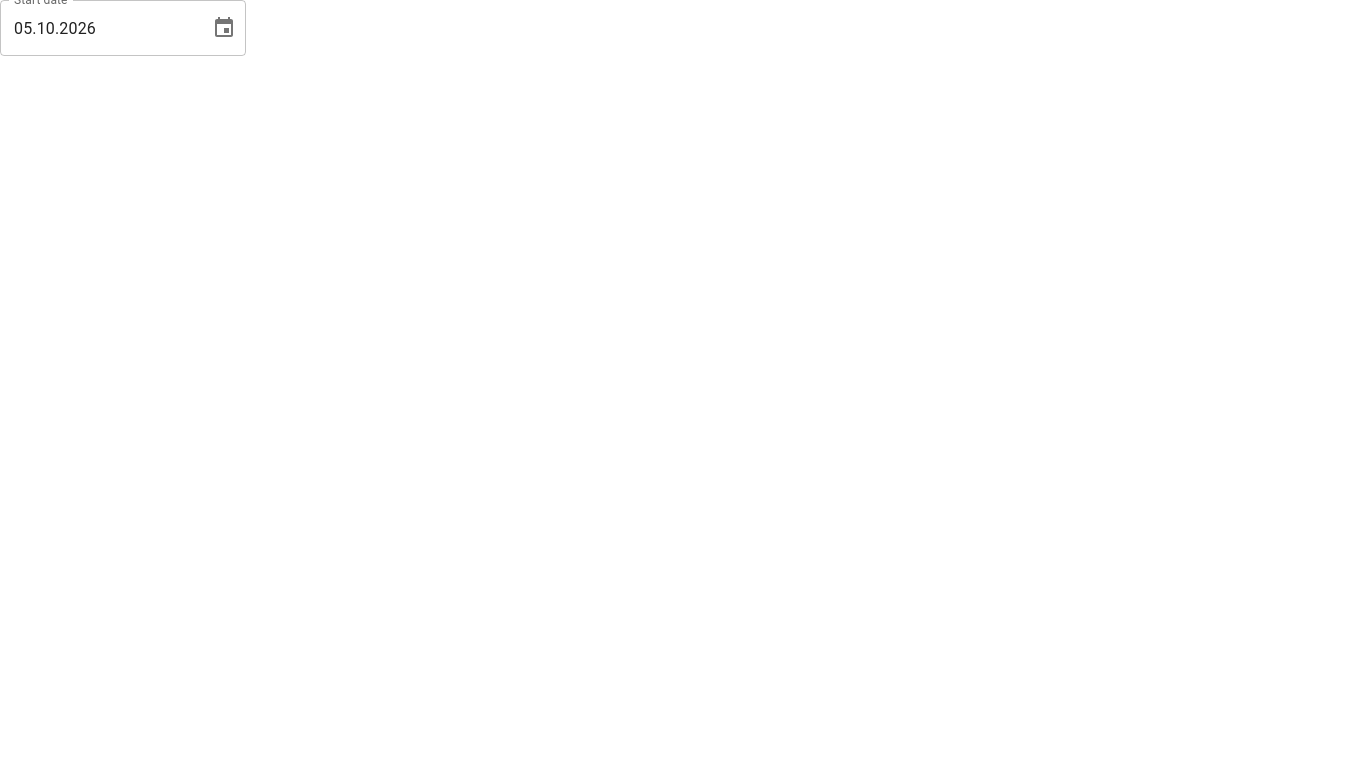
Test: <DatePickerField> › localisation › follows an app-level LocalizationProvider's locale and texts when given none
What coordinates should you click on to do the following:
click the button named "choose date"
I would click on:
 (224, 28)
Its box is x1=204 y1=8 x2=244 y2=48.
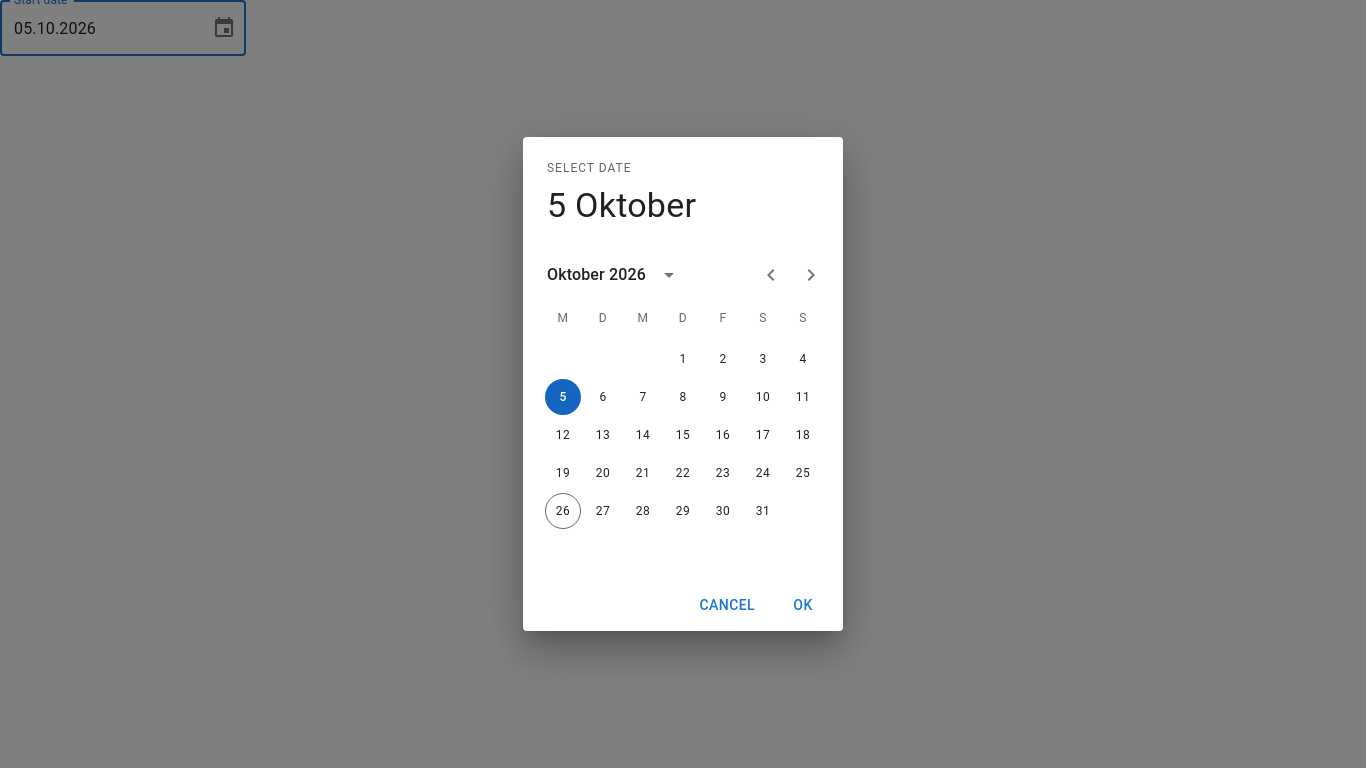
Check: the button named "Vorheriger Monat" is shown, box x1=751 y1=255 x2=791 y2=295
Check: the button named "Nächster Monat" is shown, box x1=791 y1=255 x2=831 y2=295
